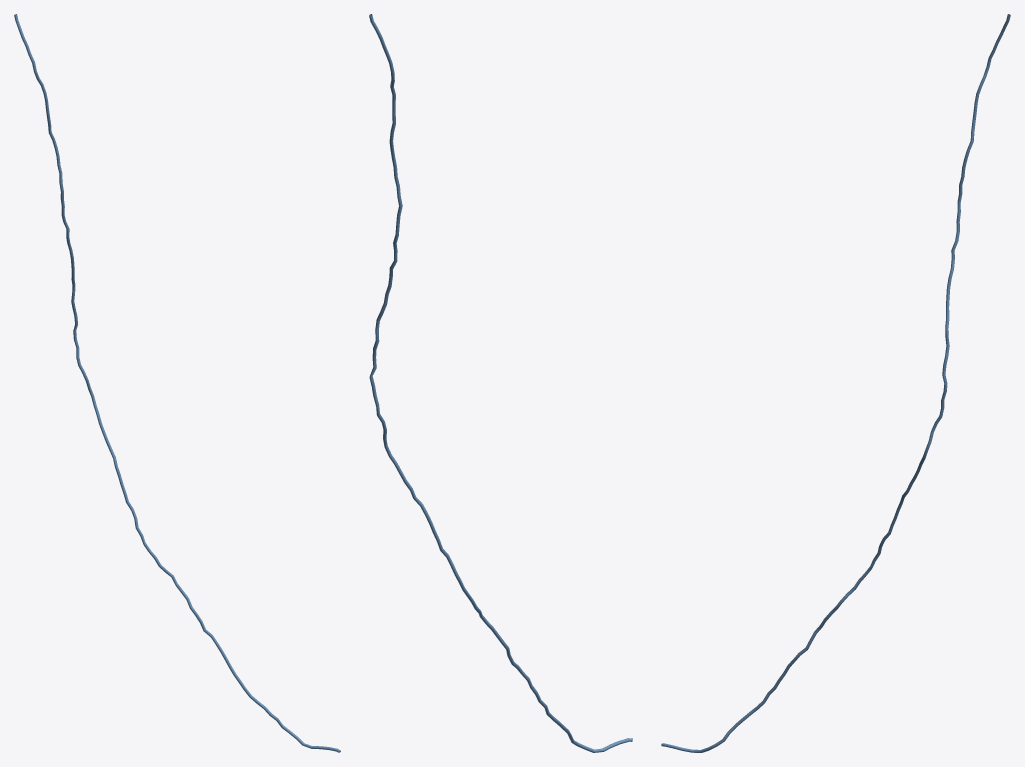
File: sweep330.fbx
3 renders of one model, left to right at view 1: azimuth 90°, elevation 25°; view 2: azimuth 150°, elevation 25°; view 3: azimuth 270°, elevation 25°, orthographic. The views are drawn at different scales.
Visible parts, largest first — view 1: sweep330; view 2: sweep330; view 3: sweep330.
Part boxes in pixels (x1,y1,x2,y2): sweep330: (14,14,340,752); sweep330: (369,14,632,752); sweep330: (661,14,1010,752).
Size of the model in its own units: 0.6463 by 5.02 by 2.09.
